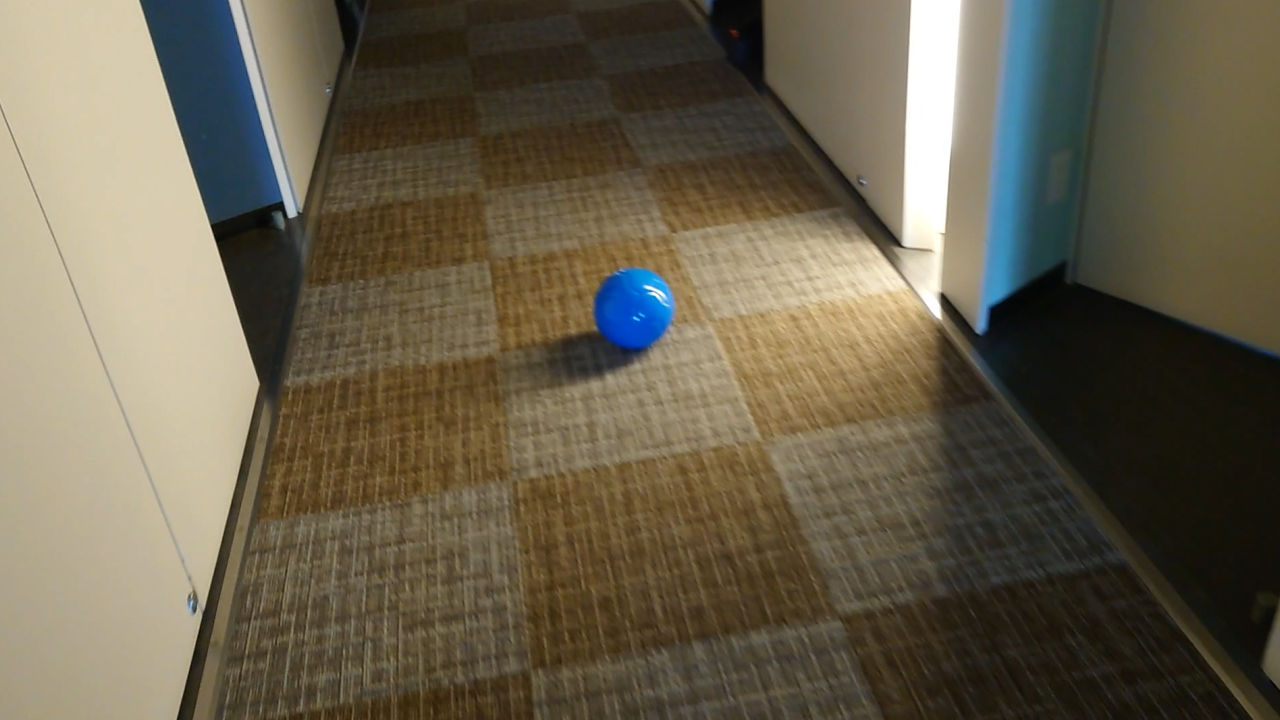BlueBall: (593, 267, 673, 354)
